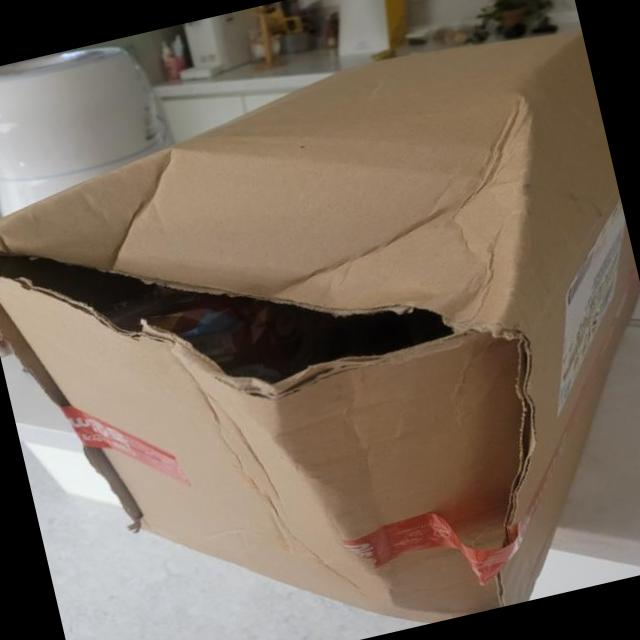box: (93, 280, 589, 640)
